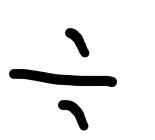div: (9, 27, 116, 130)
